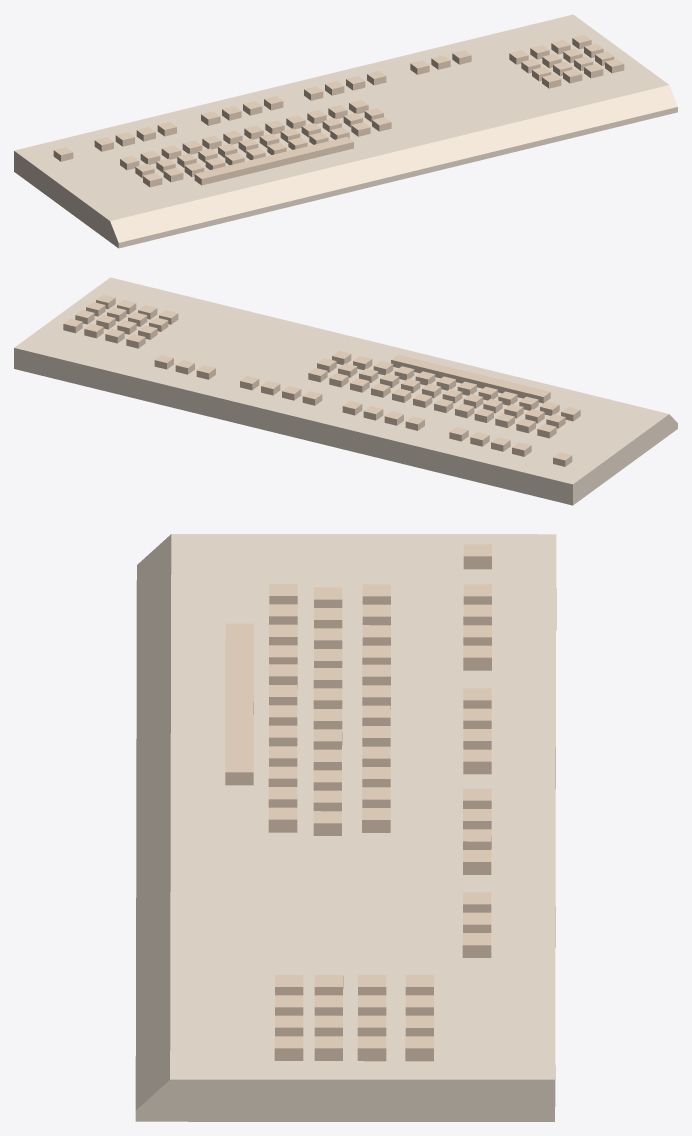
File: Keyboard_White.fbx
3 renders of one model, top to bottom at view 1: azimuth 30°, elevation 25°; view 2: azimuth 150°, elevation 25°; view 3: azimuth 270°, elevation 25°, orthographic. The views are drawn at different scales.
Visible parts, largest first — view 1: keyboard_white; view 2: keyboard_white; view 3: keyboard_white.
Part boxes in pixels (<box>): keyboard_white: <box>14,14,677,248</box>; keyboard_white: <box>14,277,677,505</box>; keyboard_white: <box>135,534,556,1121</box>.
Bounding box in the file's own units: 0.6515 × 0.0307 × 0.2122.
